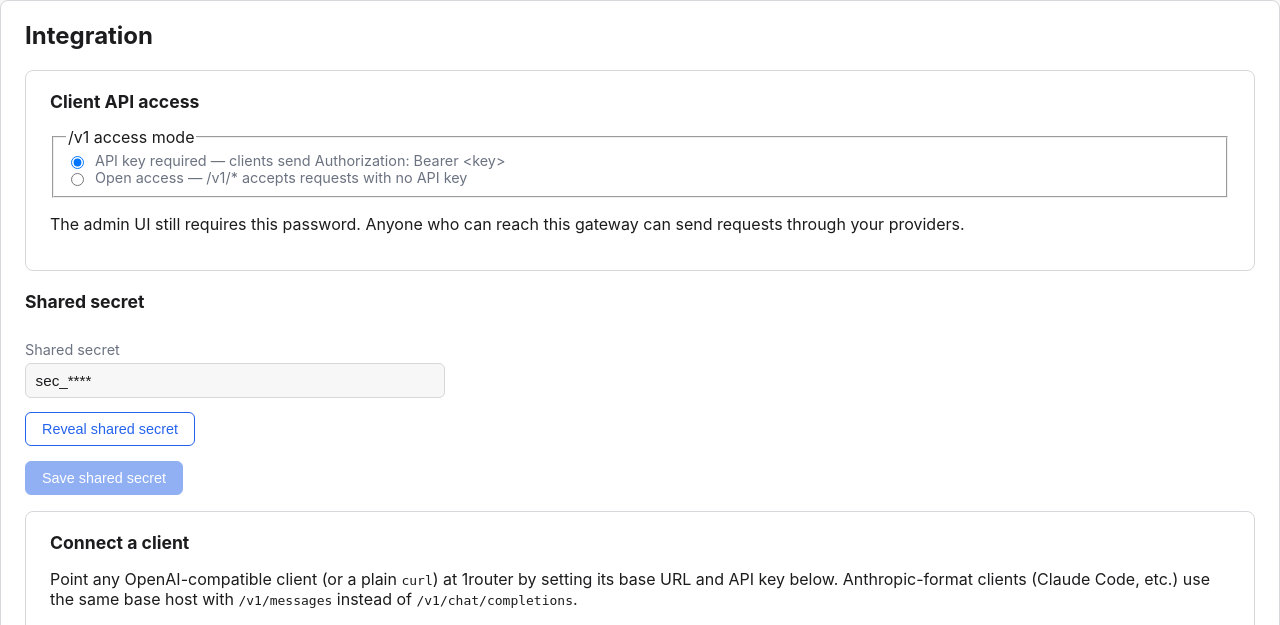
Integration › requires a base confirmation before enabling open access on loopback
Click the radio button labelled "Open access — /v1/* accepts requests with no API key" at (78, 179), box [71,173,84,186]
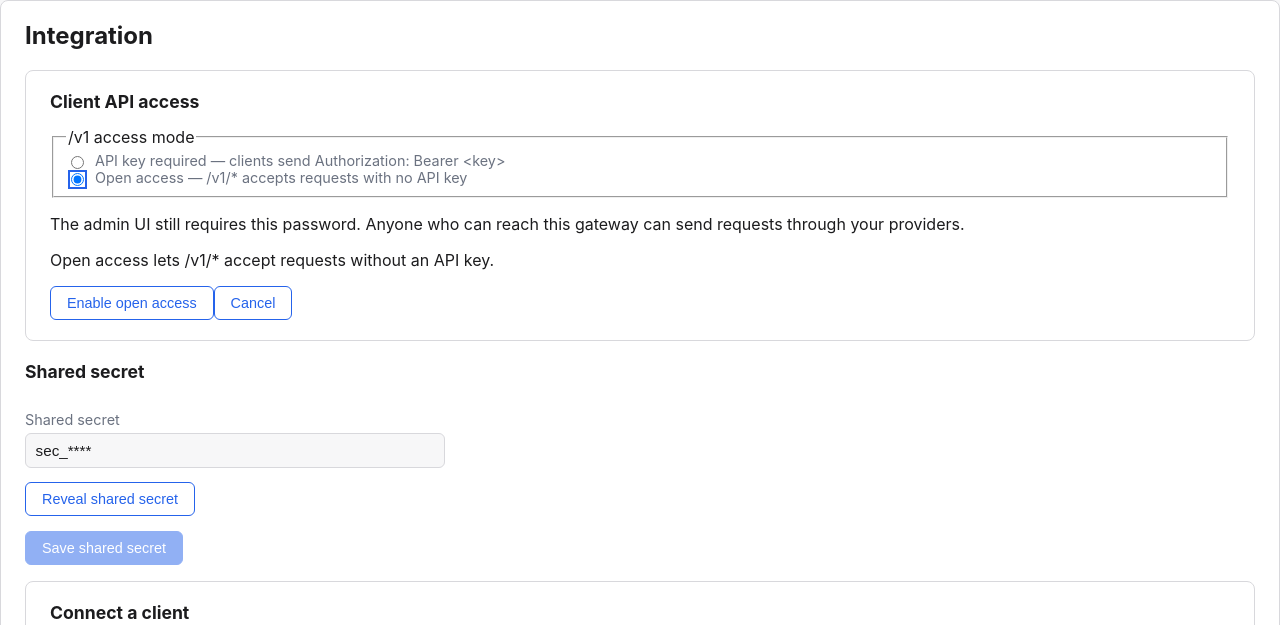
Check: the button "Enable open access" is shown
Click the button "Enable open access" at (132, 303), box [50,286,214,320]
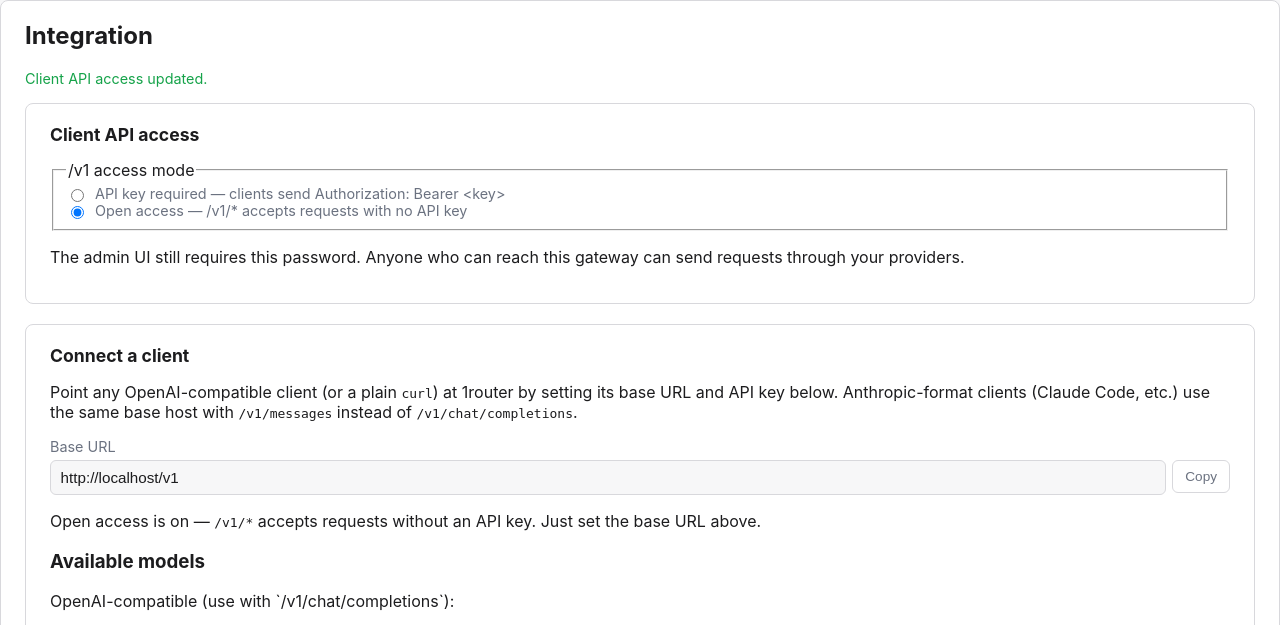
Check: the message reads "Client API access updated.", box [25,70,208,87]
